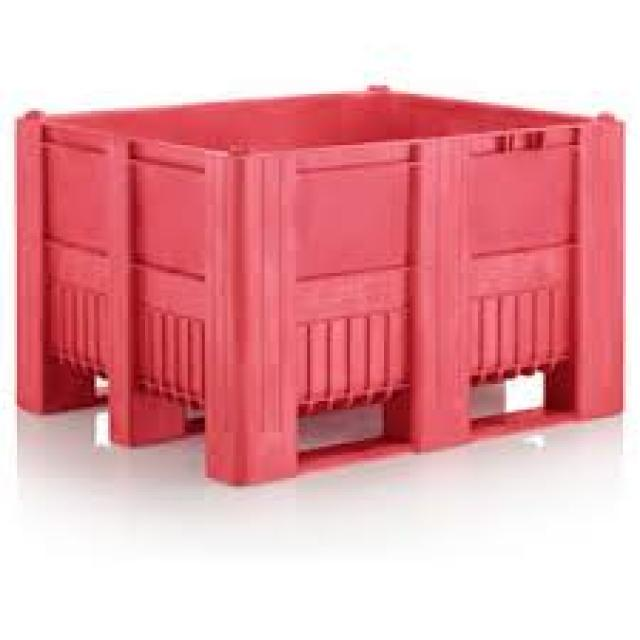basket: (19, 86, 626, 491)
